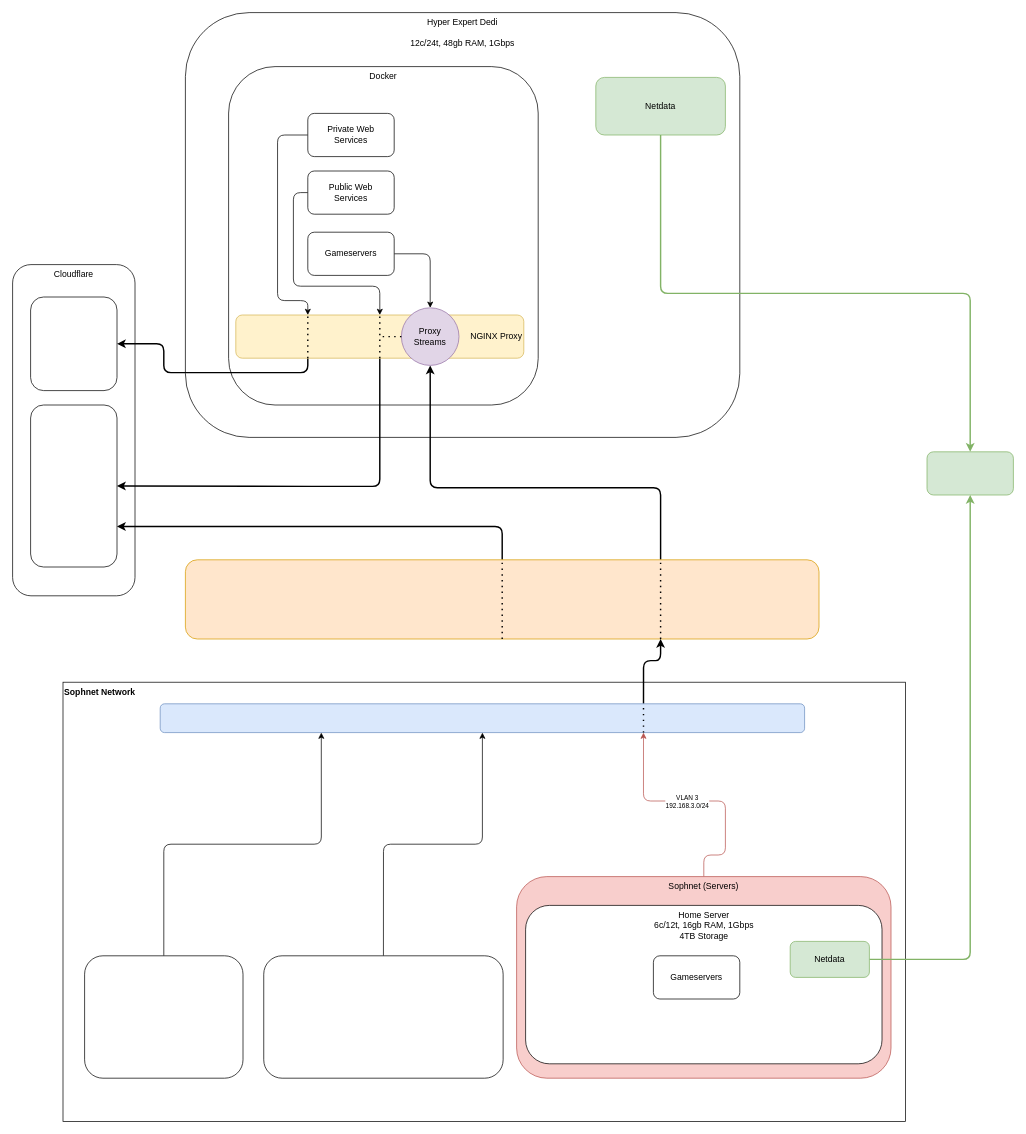
The diagram is 1026 pixels wide and 1134 high, and some of its shapes have lost their labels. The shapes that lost their labels are listed below. From the top down, each one's centre as x and y in pixels, then its label:
the point at 73,343: Zero Trust
the point at 73,485: Public Web Proxy
the point at 969,473: Netdata Cloud
the point at 502,599: laha.port0.org Dynamic DNS CenturyLink IP
the point at 482,718: Unifi Security Gateway
the point at 163,1016: Sophnet-IOT VLAN 2 192.168.2.0/24
the point at 383,1016: Sophnet (Private) Private Net 192.168.1.0/24
